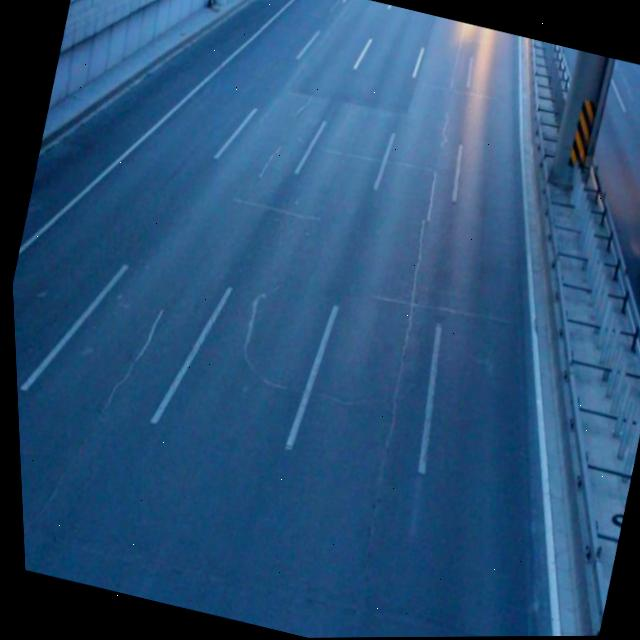car: (625, 204, 640, 314)
